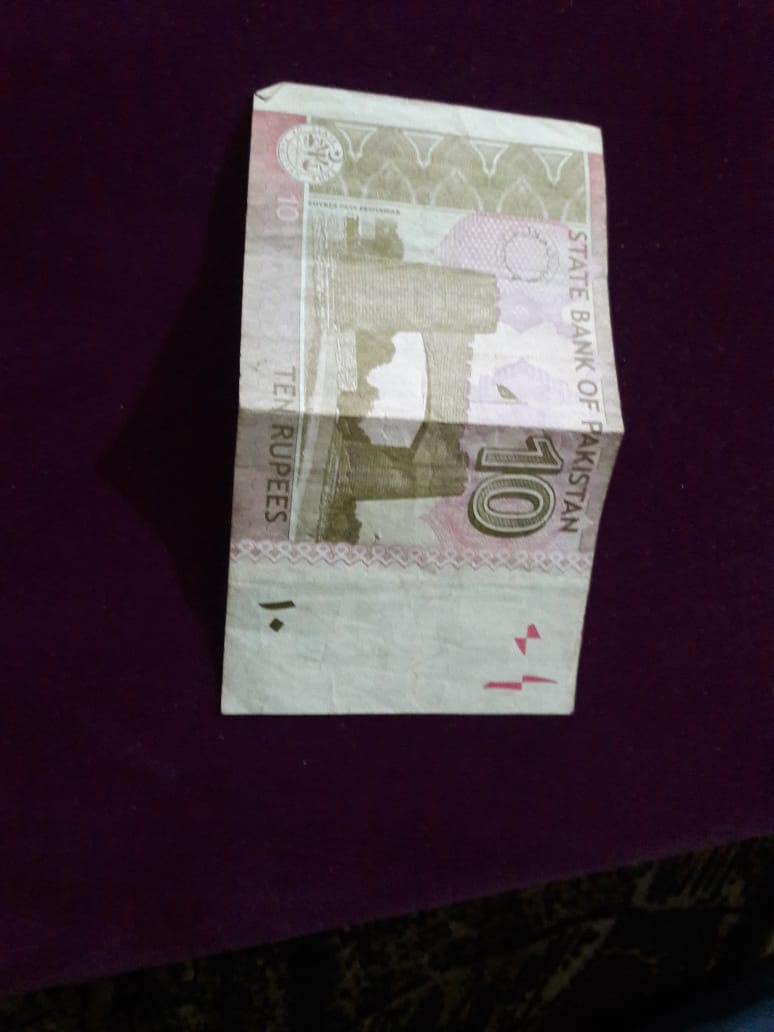10 rupee: (227, 68, 615, 722)
